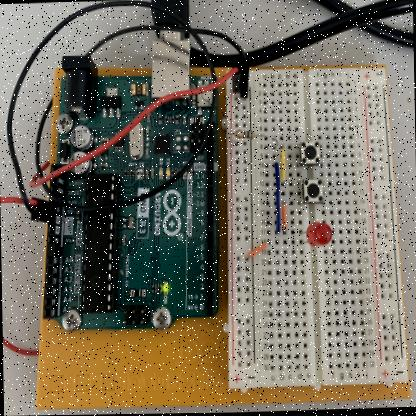5V: (35, 53, 256, 344)
ARDUINO: (46, 75, 217, 331)
Breadboard: (226, 66, 404, 388)
Button: (302, 180, 323, 204), (300, 142, 320, 166)
GND: (32, 15, 237, 218), (4, 2, 186, 227)
LED: (306, 223, 332, 247)
Long wire: (274, 163, 280, 233)
Resistor: (233, 130, 255, 140)
Short wire: (247, 243, 267, 259), (281, 204, 287, 231), (281, 149, 285, 181)
